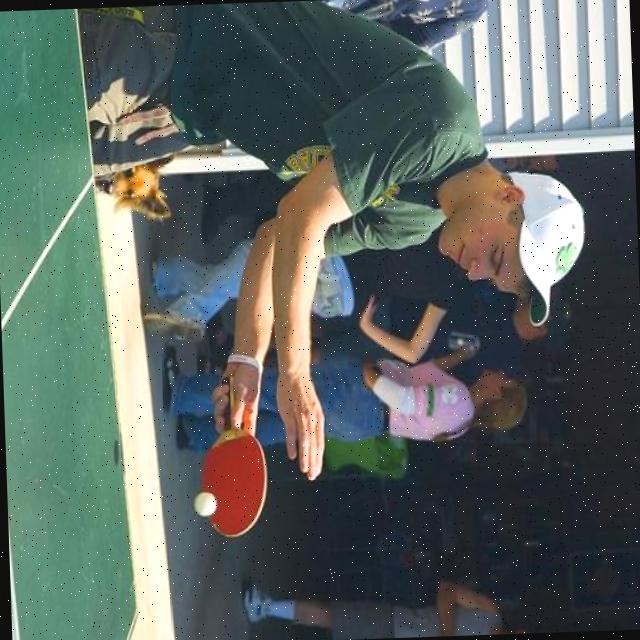ping-pong-ball: (192, 490, 217, 518)
